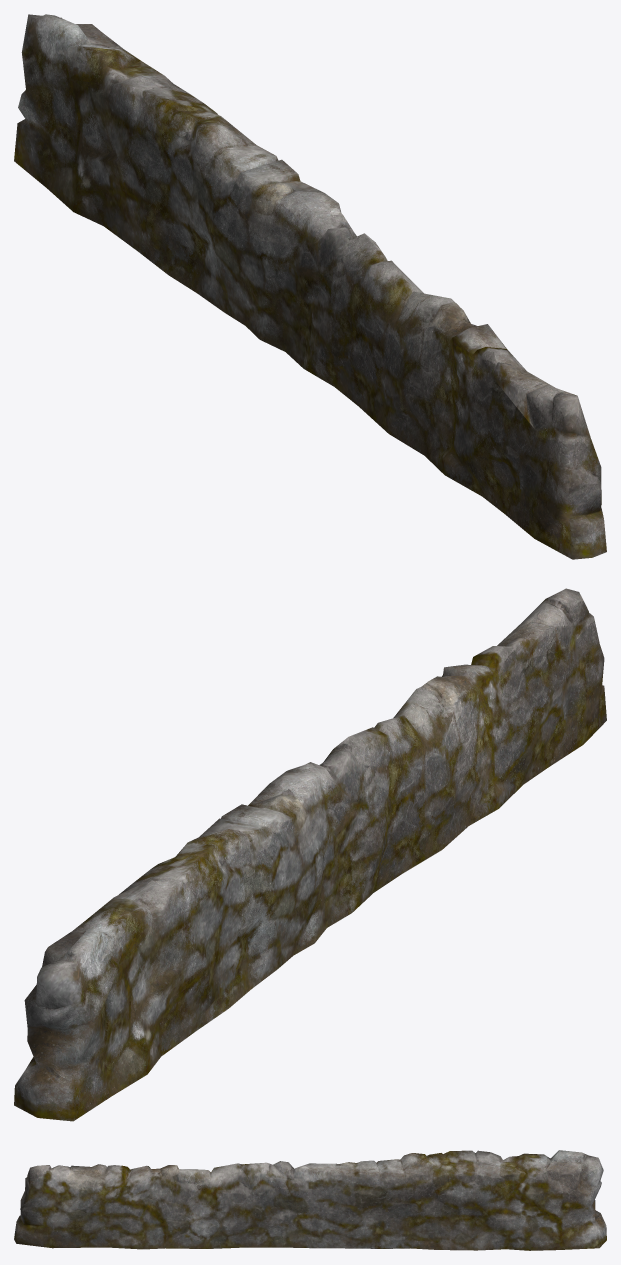
File: Wall1.fbx
3 renders of one model, top to bottom at view 1: azimuth 30°, elevation 25°; view 2: azimuth 150°, elevation 25°; view 3: azimuth 270°, elevation 25°, orthographic. The views are drawn at different scales.
Visible parts, largest first — view 1: SM_cmn_mount_StoneWall_01a; view 2: SM_cmn_mount_StoneWall_01a; view 3: SM_cmn_mount_StoneWall_01a.
Boxes of the visible parts, left/top/right/bottom form: SM_cmn_mount_StoneWall_01a: left=14, top=14, right=606, bottom=559; SM_cmn_mount_StoneWall_01a: left=14, top=588, right=606, bottom=1121; SM_cmn_mount_StoneWall_01a: left=14, top=1150, right=606, bottom=1250.
Size of the model in its own units: 84.3 by 163 by 1025.
